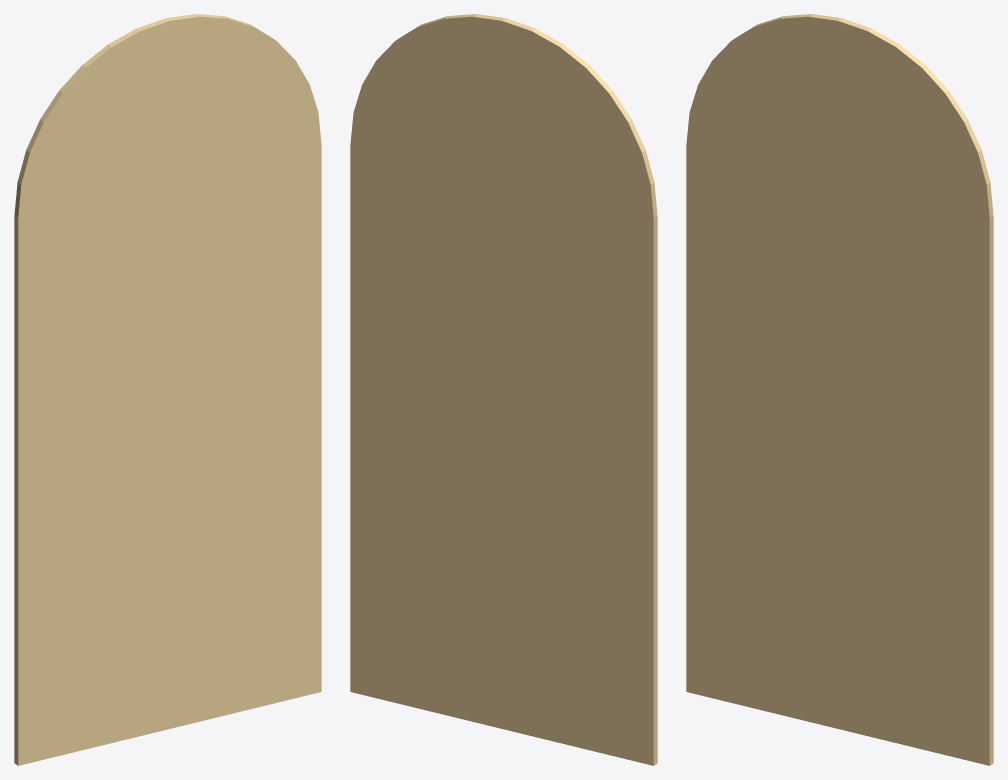
File: door_inside.fbx
3 views of the same model, side by side, from view 1: azimuth 30°, elevation 25°; view 2: azimuth 150°, elevation 25°; view 3: azimuth 330°, elevation 25° (orthographic).
Visible parts, largest first — view 1: 圆环.002; view 2: 圆环.002; view 3: 圆环.002.
Boxes of the visible parts, box(x1,y1,x2,y2) form: 圆环.002: box(14, 14, 321, 765); 圆环.002: box(350, 14, 657, 765); 圆环.002: box(686, 14, 993, 765).
Bounding box in the file's own units: 162 × 361 × 3.47.
